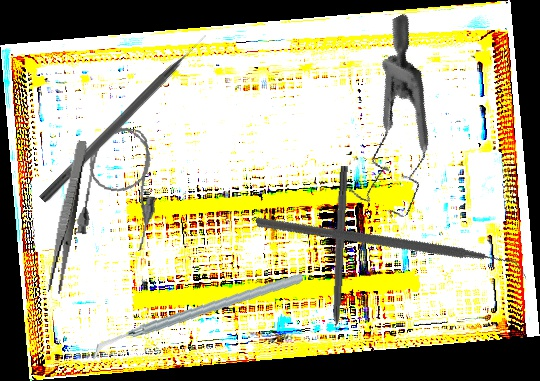Cannula: (74, 122, 167, 253)
Chopper: (254, 129, 529, 373), (90, 256, 304, 377)
Dressing Forceps: (46, 139, 89, 295)
Hook Surgical: (328, 165, 349, 350)
Pusher: (38, 31, 212, 206)
Speculum: (288, 12, 489, 234)
